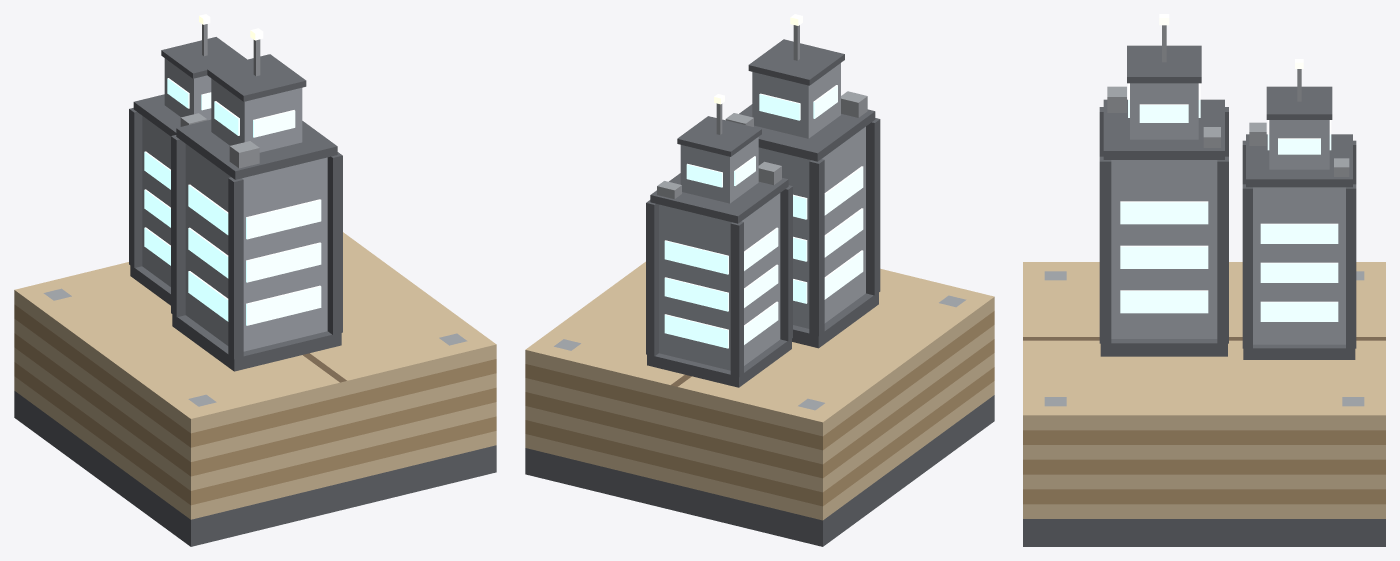
The model's file is PlywoodTile_Center2.fbx.
The picture shows the model from 3 angles, left to right: view 1: azimuth 30°, elevation 25°; view 2: azimuth 150°, elevation 25°; view 3: azimuth 270°, elevation 25°; orthographic projection. The views are drawn at different scales.
Visible parts, largest first — view 1: PlywoodTile_Center2; view 2: PlywoodTile_Center2; view 3: PlywoodTile_Center2.
Part boxes in pixels (bbox=[...]): PlywoodTile_Center2: bbox=[14, 14, 496, 546]; PlywoodTile_Center2: bbox=[525, 14, 994, 546]; PlywoodTile_Center2: bbox=[1023, 14, 1385, 546].
Size of the model in its own units: 1 by 1.35 by 1.
